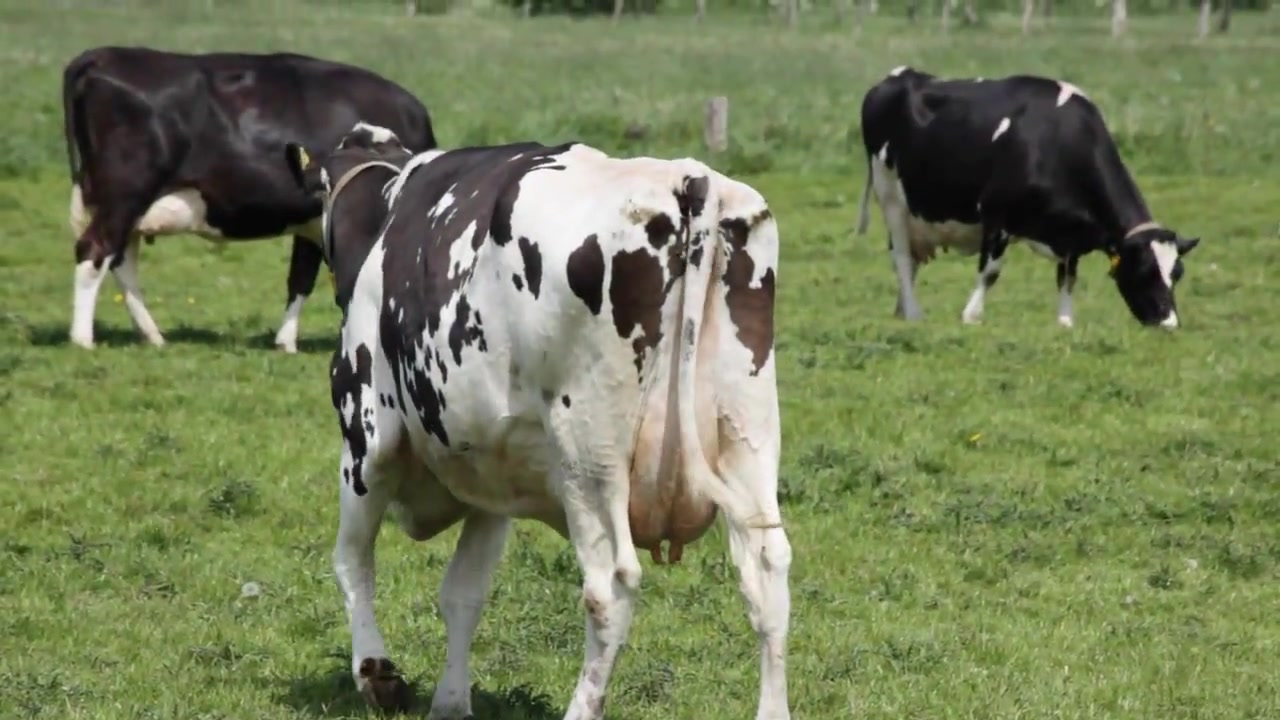cow: (291, 124, 798, 720)
